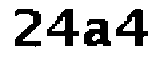2: (10, 4, 43, 49)
4: (114, 3, 151, 50), (45, 5, 80, 51)
a: (79, 16, 114, 52)
